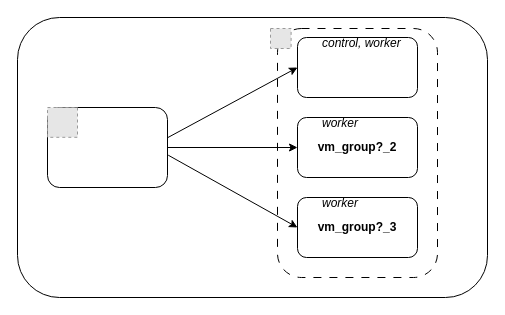
The diagram is 505 pixels wide and 315 high, and some of its shapes have lost their labels. Grey dashed boxes stand in for pictures. Here are the shapes that lost their labels. From the top down, the box of each, then its label:
(296, 36, 418, 98): vm_group?_1
(46, 106, 168, 188): deployment container
